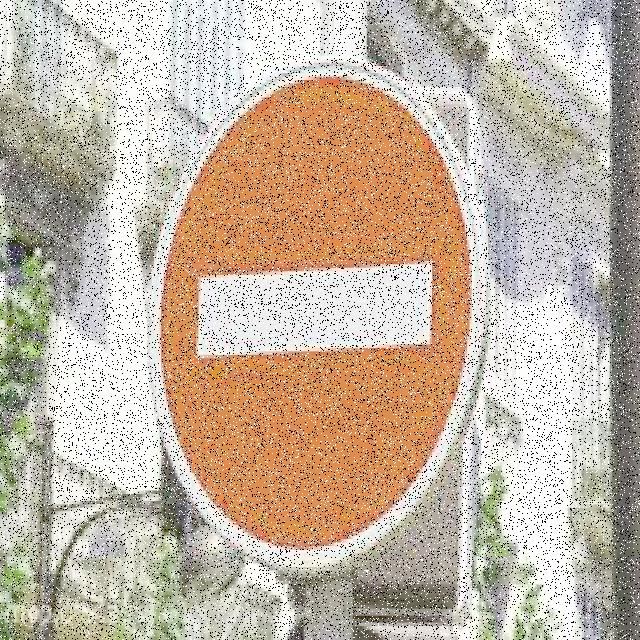no entry: (161, 73, 472, 543)
